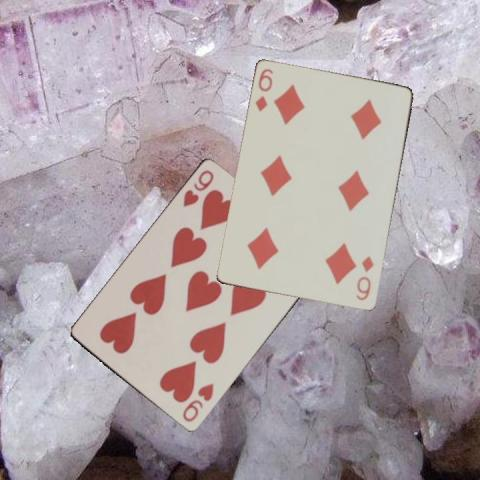6d: (252, 66, 275, 114), (353, 253, 375, 302)
9h: (179, 381, 216, 424), (180, 168, 215, 210)
